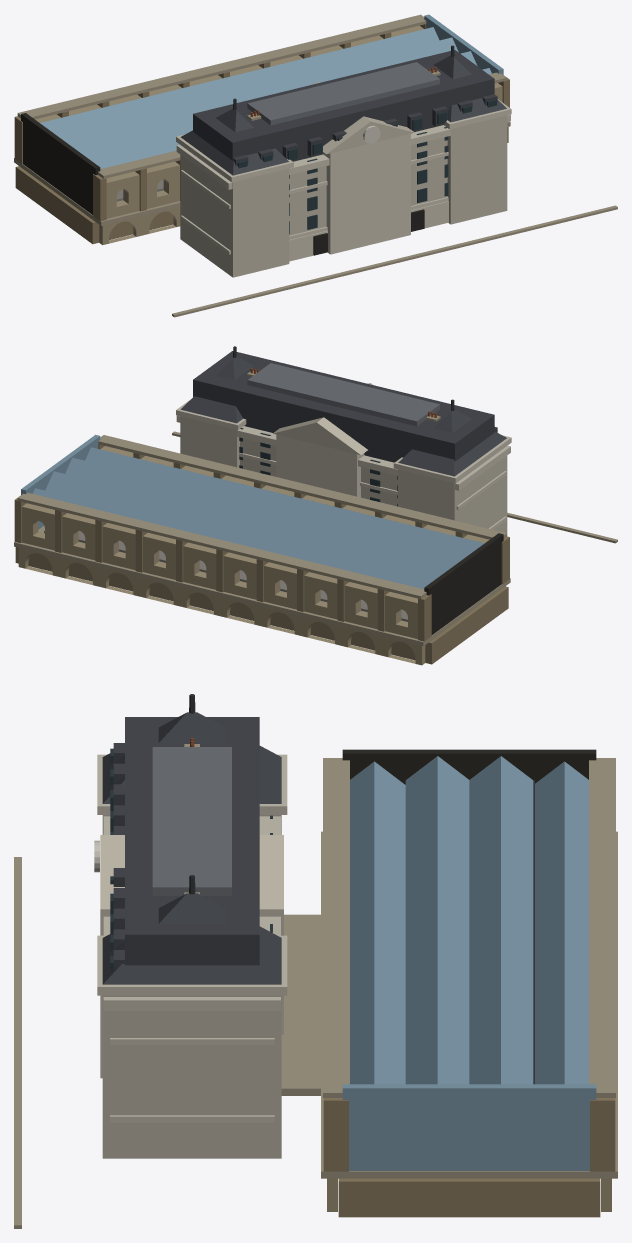
The model's file is holborn_viaduct_station.glb.
3 views of the same model, one above another, from view 1: azimuth 30°, elevation 25°; view 2: azimuth 150°, elevation 25°; view 3: azimuth 270°, elevation 25° (orthographic). The views are drawn at different scales.
Visible parts, largest first — view 1: holborn_viaduct_station; view 2: holborn_viaduct_station; view 3: holborn_viaduct_station.
Part boxes in pixels (bbox=[...]): holborn_viaduct_station: bbox=[14, 14, 617, 317]; holborn_viaduct_station: bbox=[14, 346, 617, 665]; holborn_viaduct_station: bbox=[14, 694, 617, 1228].
Size of the model in its own units: 110 by 36.1 by 76.25.
